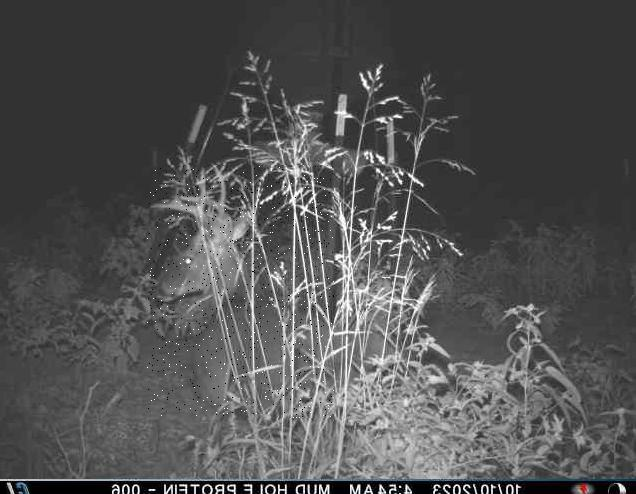Deer: (146, 166, 333, 419)
